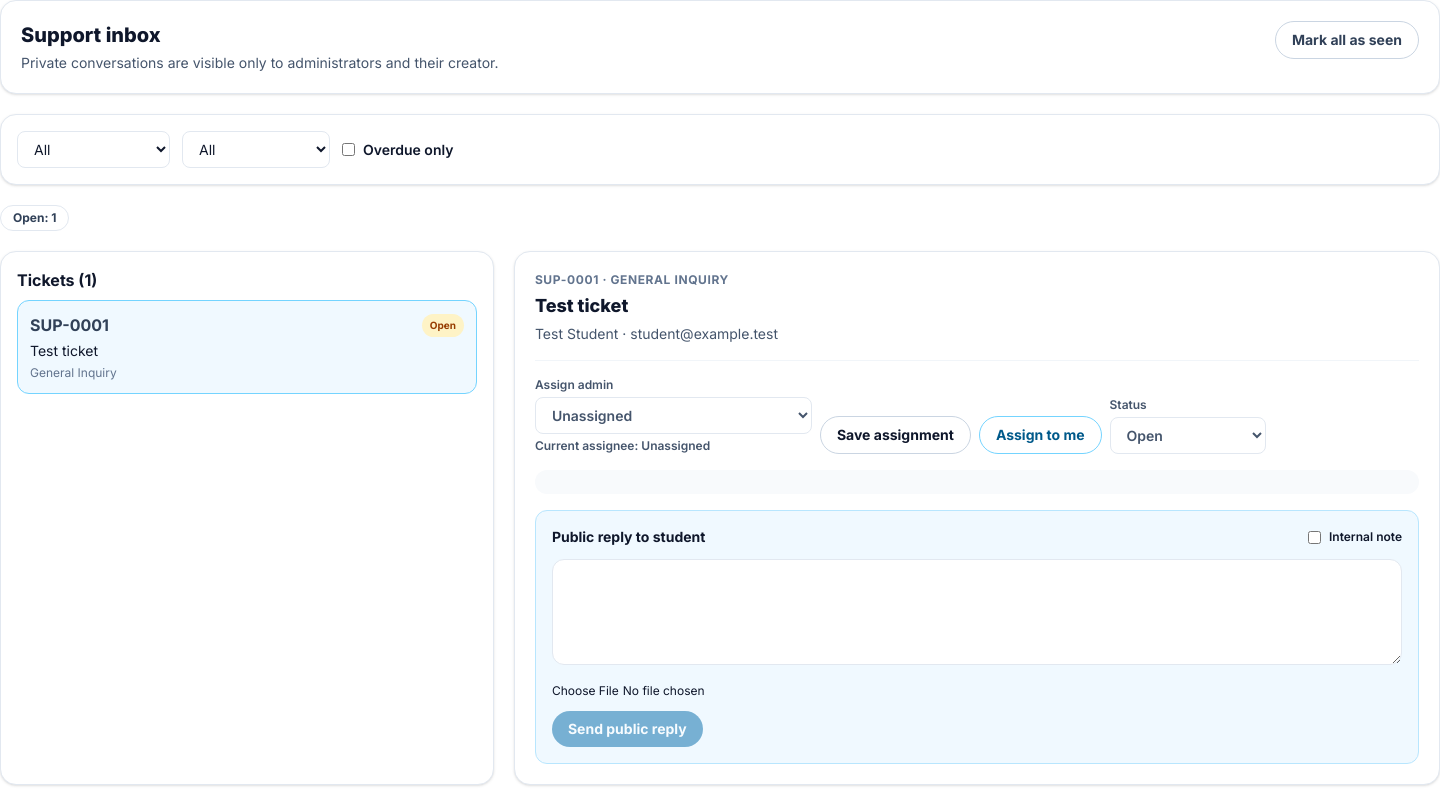
AdminSupportInbox › assigns a ticket using the admin PATCH endpoint and JSON body
The width and height of the screenshot is (1440, 810).
Check: the heading "Test ticket" is shown, box [535,295,628,316]
Step 1. Select "Support Admin (@support-admin)" in the dropdown labelled "Assign admin" → (673, 416), box [535,397,812,434]
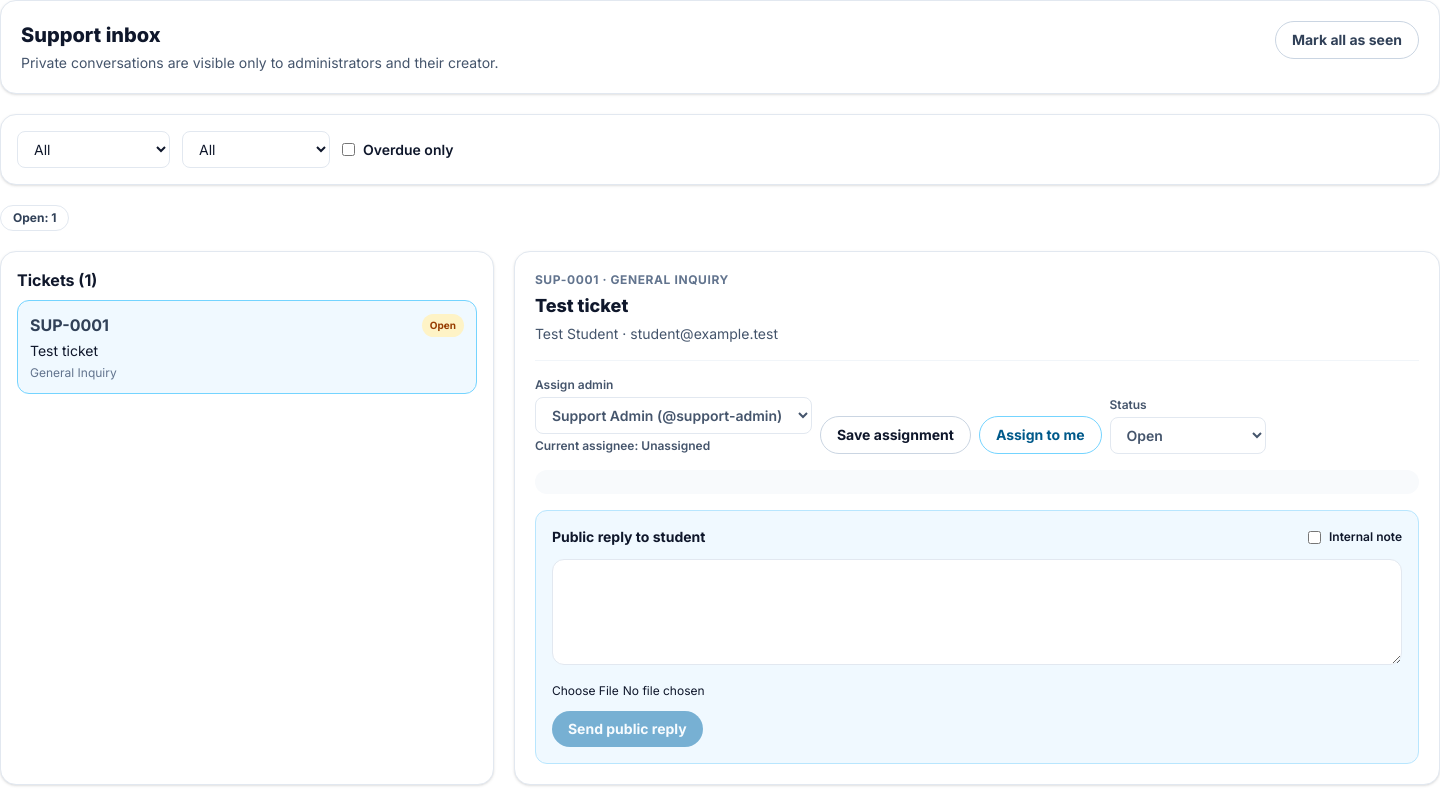
Step 2. Click the button "Save assignment" → (895, 435), box [820,416,971,454]
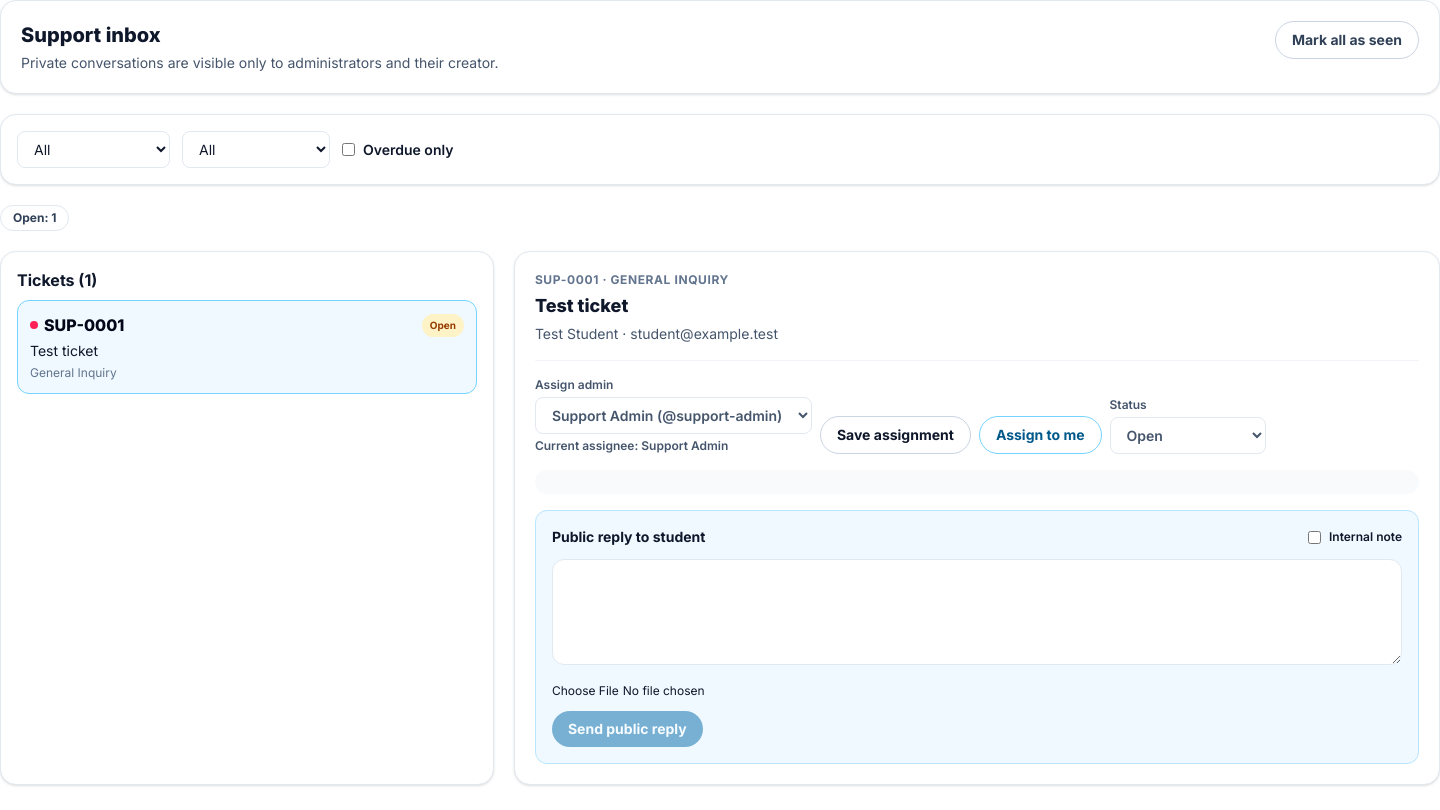
Check: the text "Current assignee: Support Admin" is shown, box [535,438,728,453]
